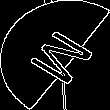M_SE: (16, 22, 94, 88)
